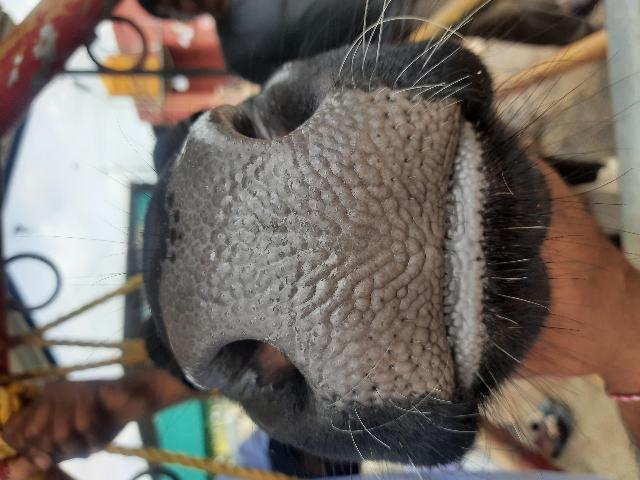Muzzle: (182, 153, 444, 337)
